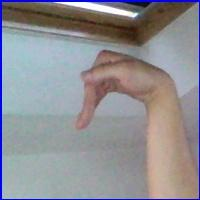del: (71, 41, 177, 139)
